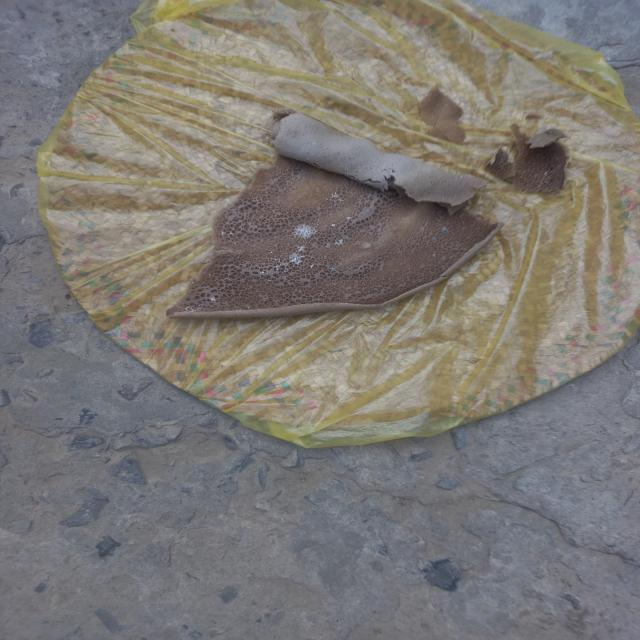injera_mold: (288, 223, 320, 239), (286, 252, 305, 267), (178, 305, 205, 314), (329, 191, 345, 205), (331, 237, 346, 248), (219, 230, 237, 238), (327, 265, 340, 273), (440, 226, 452, 234), (296, 245, 308, 253), (208, 295, 218, 303), (328, 222, 338, 228), (258, 270, 268, 276), (309, 141, 319, 147), (344, 215, 353, 221)
